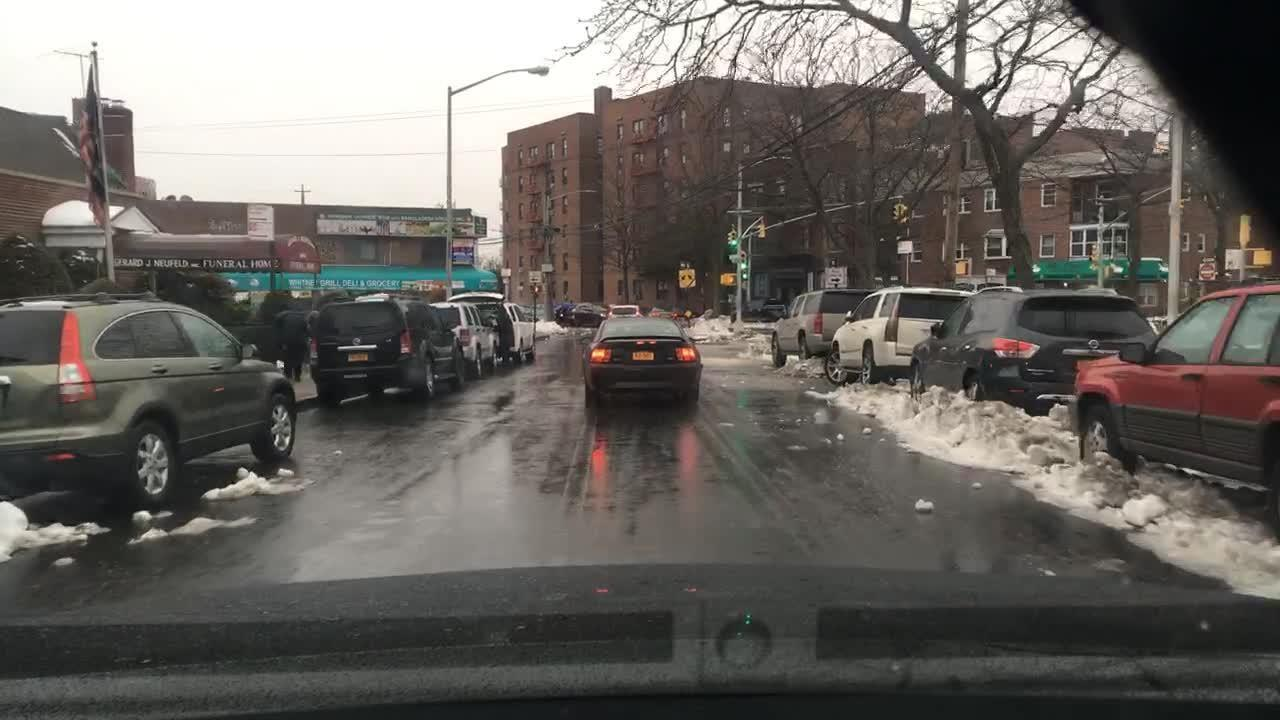Nissan: (1087, 334, 1103, 352)
